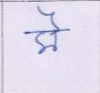e_matra: (37, 5, 62, 29)
